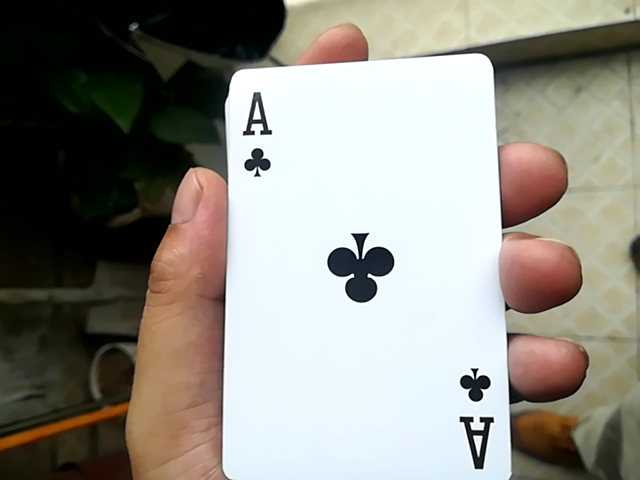mh a: (216, 46, 515, 480)
